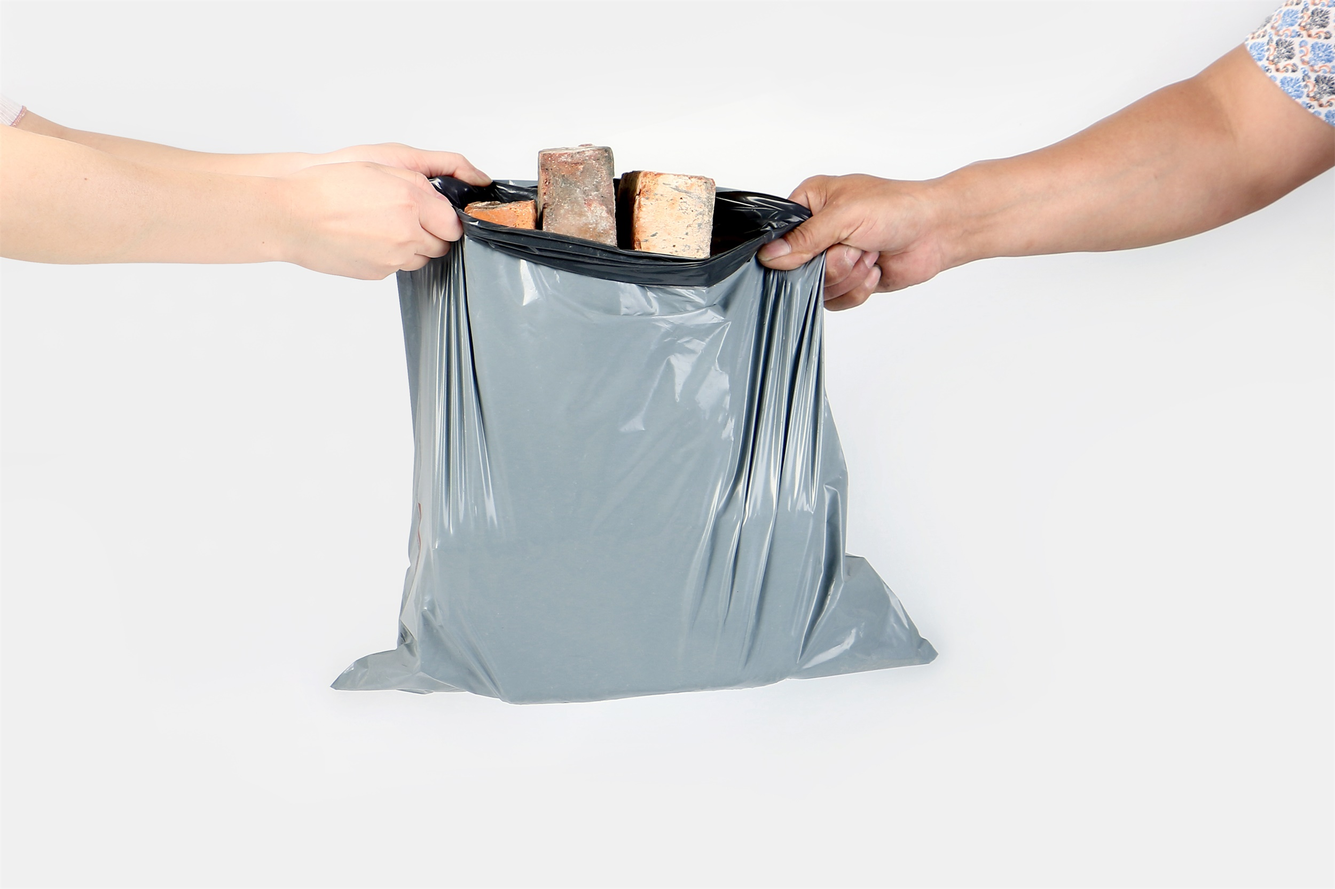塑料袋: (287, 119, 938, 723)
